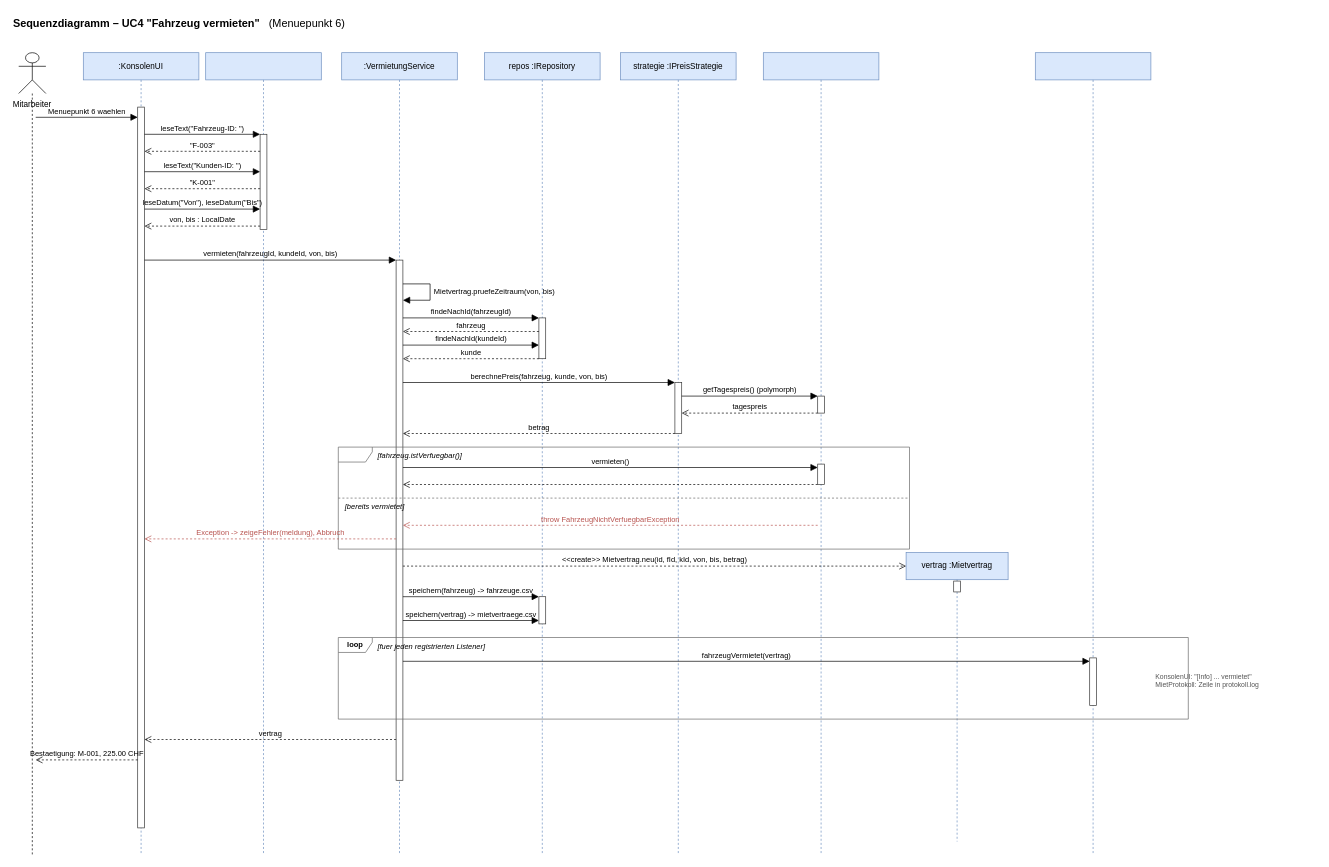
This 1329x867 diagram has some shape labels left out. The box of each missing label's shape, as (x1, y1, x2, y2) in pixels:
:Eingabe: (205, 52, 321, 855)
alt: (338, 446, 910, 549)
fahrzeug :Fahrzeug: (763, 52, 879, 855)
listener :IMietListener: (1035, 52, 1151, 855)
